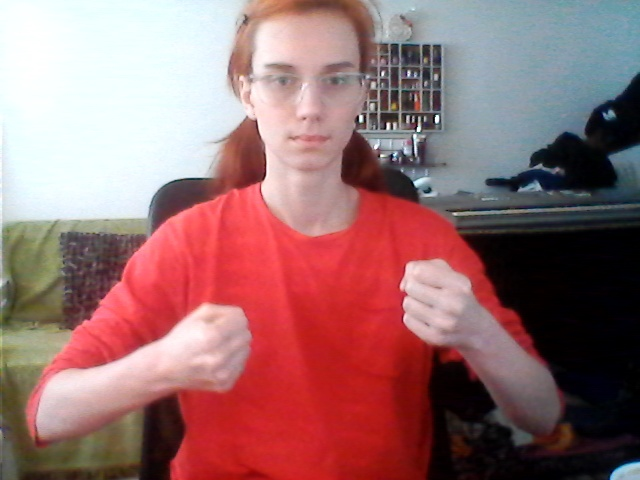auto: (151, 255, 499, 409)
